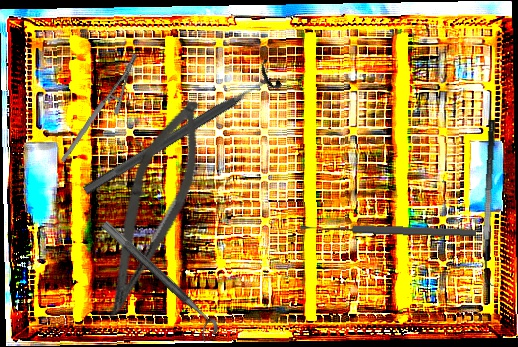Fixation Ring: (75, 57, 284, 206), (92, 219, 222, 344)
Micro Scissor: (91, 89, 217, 331)
Needle Holder: (35, 52, 163, 163)
Spatula Surgical: (476, 119, 511, 287)
Surgical Spoon: (300, 221, 477, 239)
